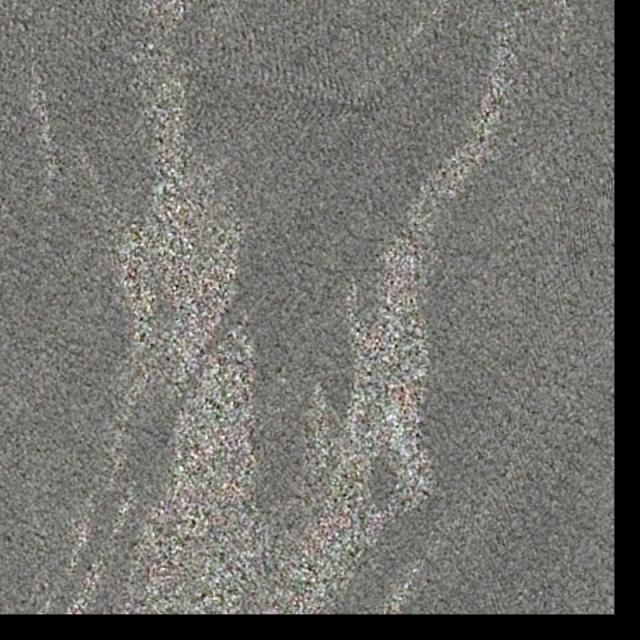ship: (373, 106, 383, 114)
